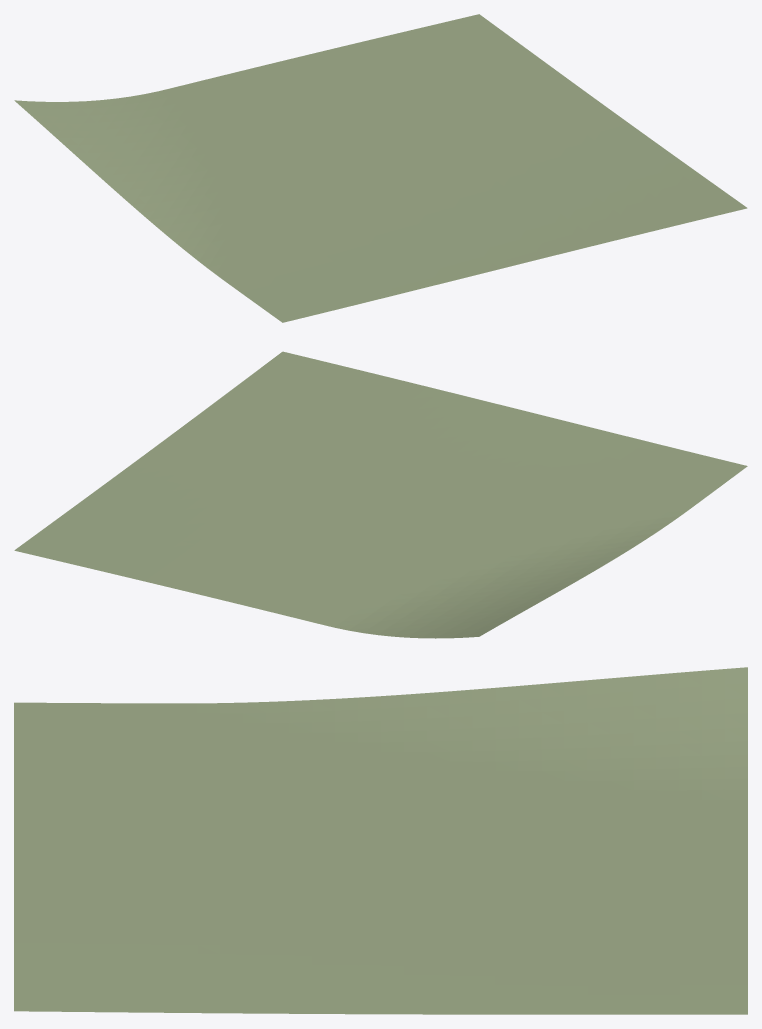
File: desert-29-21.glb
The picture shows the model from 3 angles, top to bottom: view 1: azimuth 30°, elevation 25°; view 2: azimuth 150°, elevation 25°; view 3: azimuth 270°, elevation 25°; orthographic projection. The views are drawn at different scales.
Parts seen in each view (by area): view 1: desert-29-21; view 2: desert-29-21; view 3: desert-29-21.
Part boxes in pixels (x1,y1,x2,y2): desert-29-21: [14, 14, 747, 322]; desert-29-21: [14, 351, 747, 638]; desert-29-21: [14, 667, 747, 1014].
Size of the model in its own units: 512 by 28.74 by 512.
